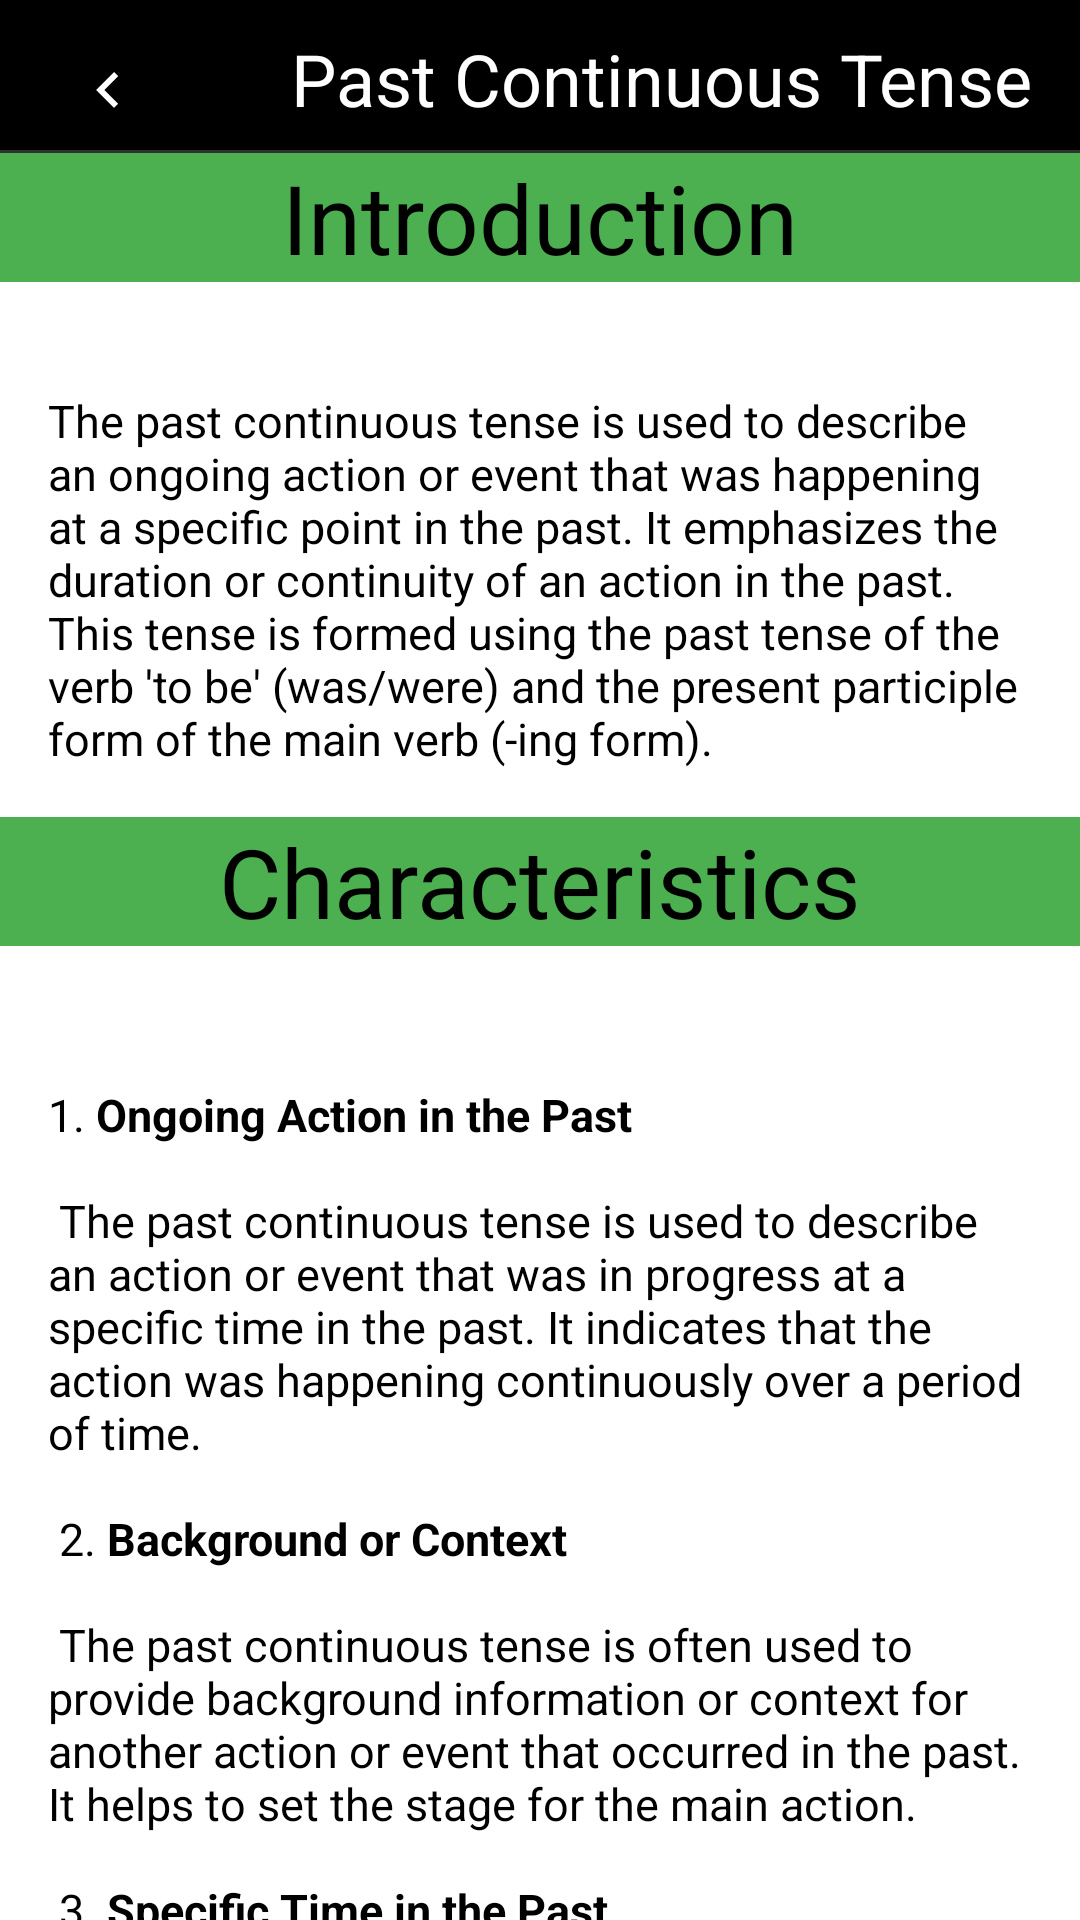

Icons on this 1080*1920 Android screen, each with its box as {"left": x1, "top": y1, "right": x2, "bottom": y2}:
backbt: {"left": 96, "top": 72, "right": 118, "bottom": 108}
